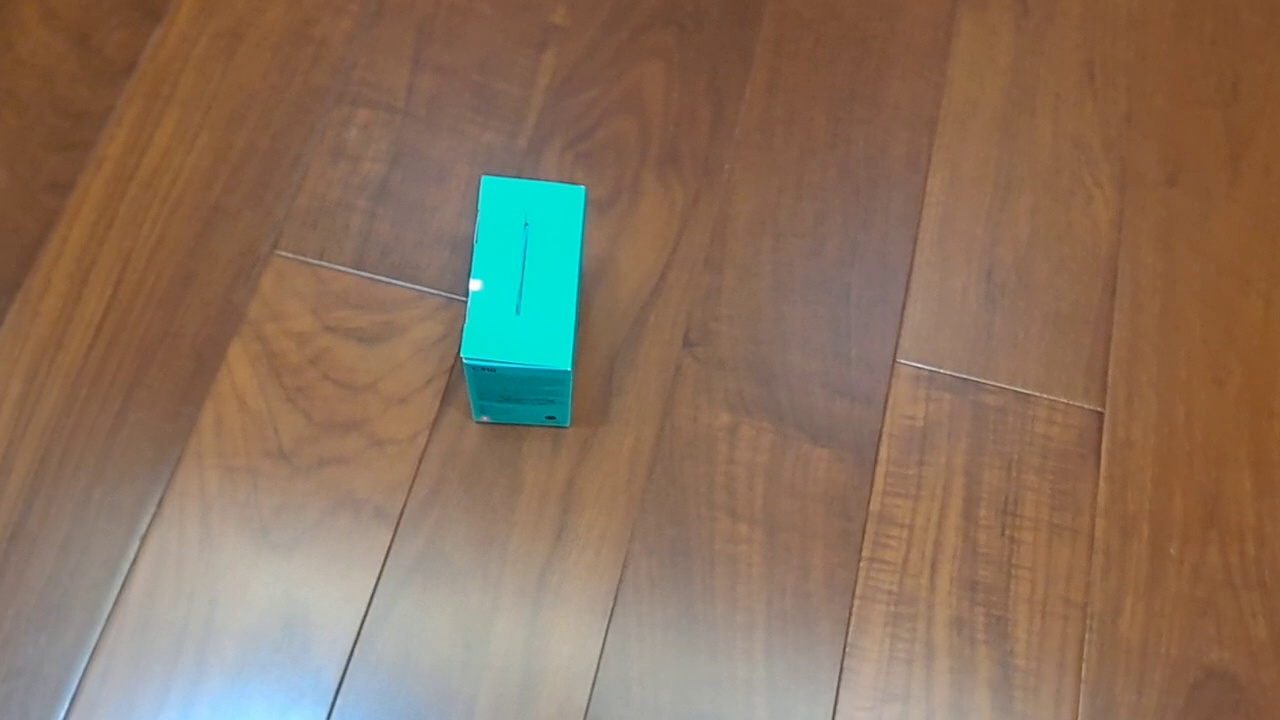webcam: (459, 173, 587, 429)
